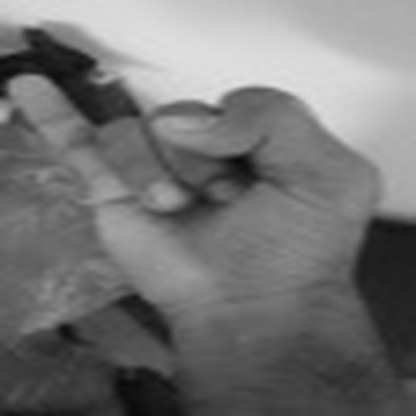i: (6, 66, 385, 304)
